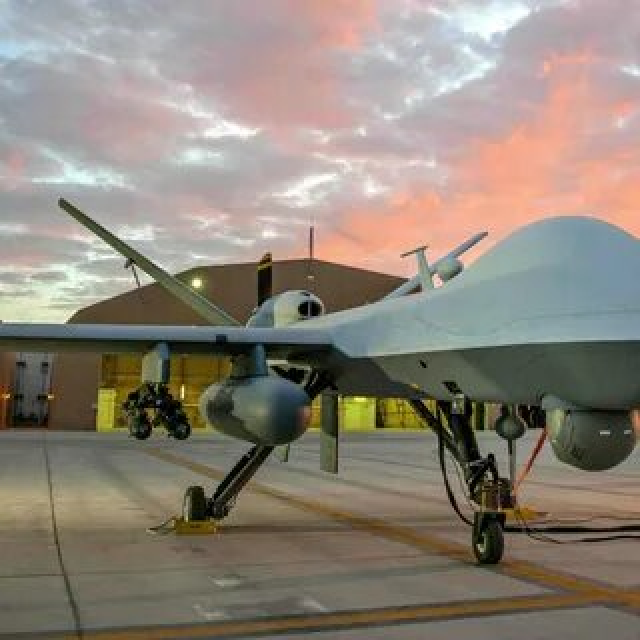military drone: (0, 194, 640, 562)
